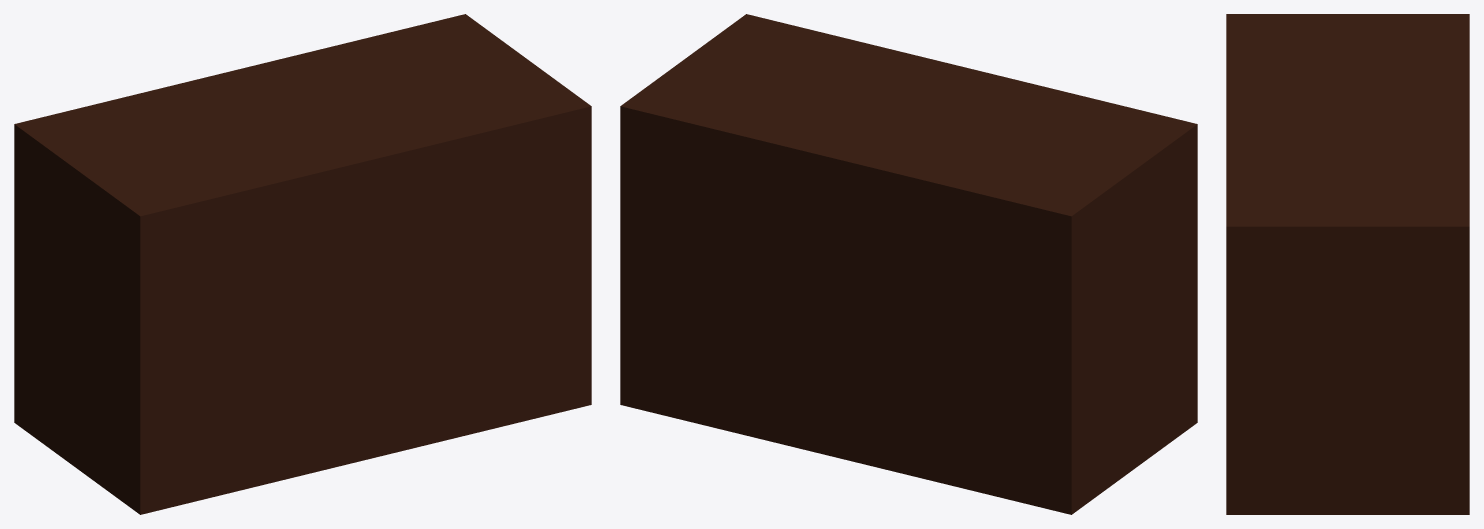
The model's file is tool_rack.obj.
3 renders of one model, left to right at view 1: azimuth 30°, elevation 25°; view 2: azimuth 150°, elevation 25°; view 3: azimuth 270°, elevation 25°, orthographic. The views are drawn at different scales.
Visible parts, largest first — view 1: dark_wood; view 2: dark_wood; view 3: dark_wood.
Part boxes in pixels (<box>): dark_wood: <box>14,14,591,514</box>; dark_wood: <box>620,14,1197,514</box>; dark_wood: <box>1226,14,1469,514</box>.
Size of the model in its own units: 1.55 by 0.98 by 0.75.
